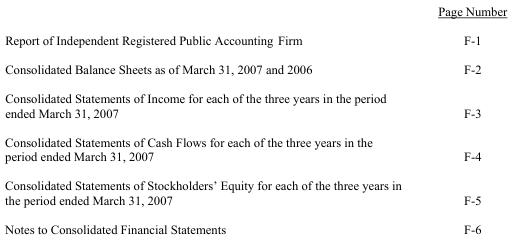table: (4, 3, 506, 235)
table column: (4, 3, 418, 235), (418, 3, 506, 235)
table column header: (4, 3, 506, 25)
table row: (4, 83, 506, 127), (4, 170, 506, 214), (4, 127, 506, 170), (4, 25, 506, 54), (4, 54, 506, 83), (4, 3, 506, 25), (4, 214, 506, 235)
